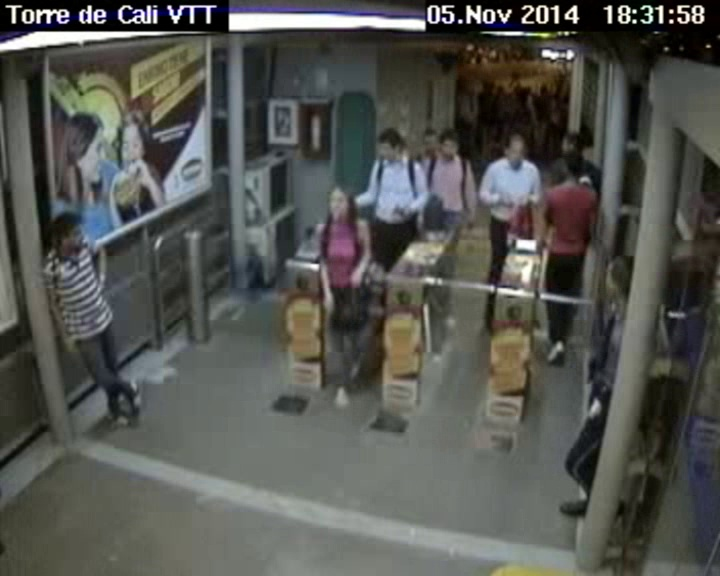person: (597, 249, 651, 313), (46, 210, 90, 255), (317, 179, 357, 226), (375, 126, 408, 163), (501, 129, 526, 167), (561, 149, 586, 183), (556, 127, 583, 157), (420, 126, 446, 157), (439, 125, 461, 159)
